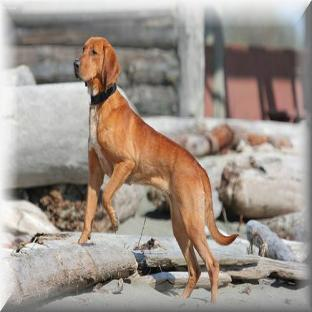Animal: (73, 37, 238, 302)
